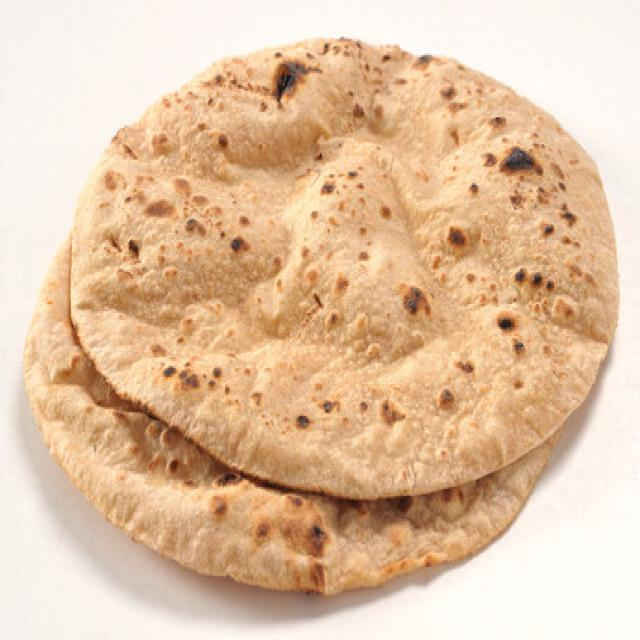ROTI: (62, 41, 615, 491)
